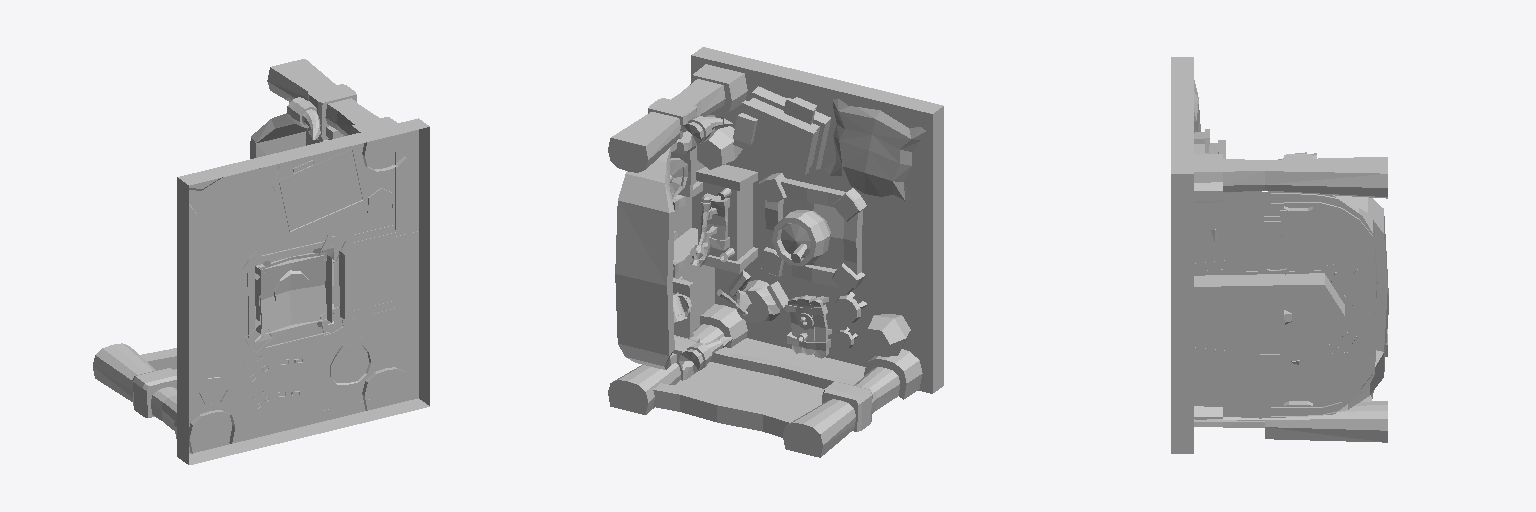
File: viking_room.obj
3 renders of one model, left to right at view 1: azimuth 30°, elevation 25°; view 2: azimuth 150°, elevation 25°; view 3: azimuth 270°, elevation 25°, orthographic.
Visible parts, largest first — view 1: mesh_all1_Texture1_0; view 2: mesh_all1_Texture1_0; view 3: mesh_all1_Texture1_0.
Boxes of the visible parts, x1=… form: mesh_all1_Texture1_0: x1=93, y1=59, x2=429, y2=464; mesh_all1_Texture1_0: x1=608, y1=47, x2=943, y2=457; mesh_all1_Texture1_0: x1=1171, y1=57, x2=1388, y2=453.
Bounding box in the file's own units: 1.33 × 1.46 × 1.03.